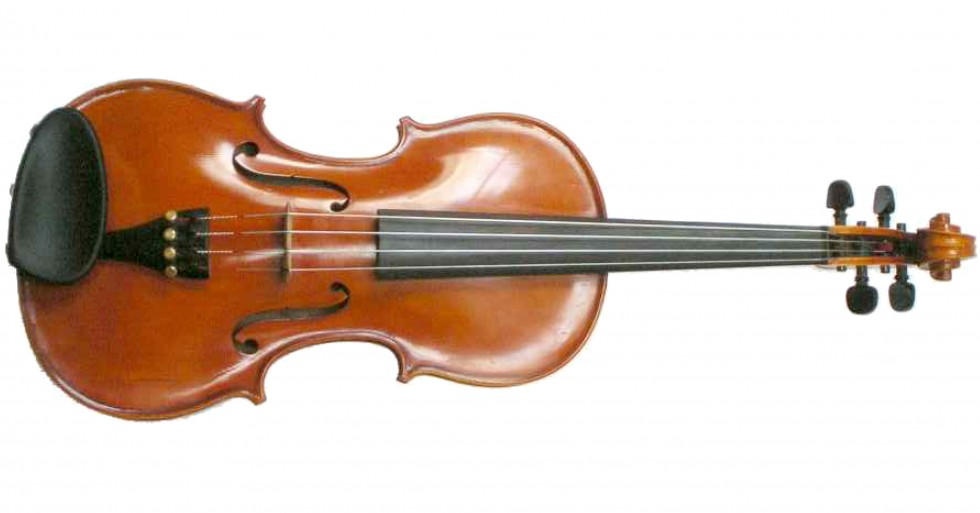Fiddle: (15, 59, 978, 421)
